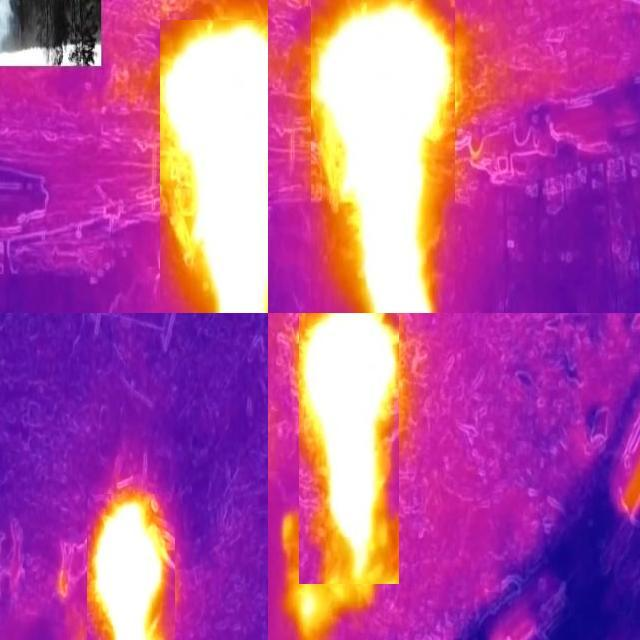fire: (312, 1, 456, 314), (161, 21, 269, 314), (300, 314, 400, 585), (88, 495, 176, 640)
